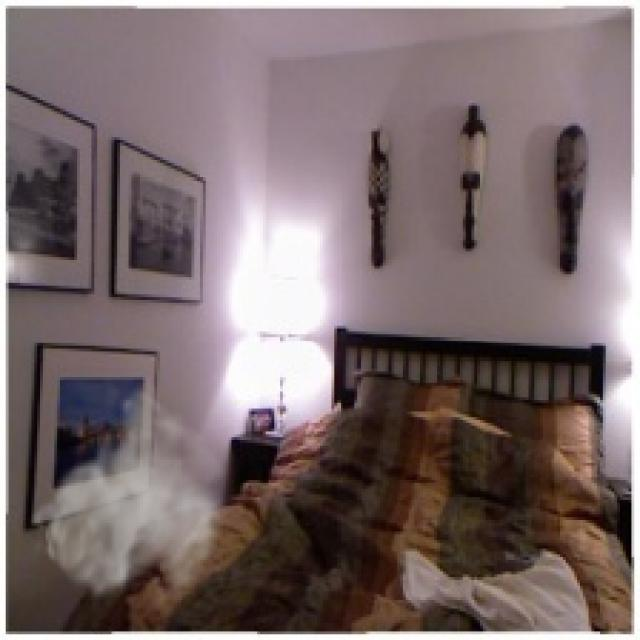smoke: (28, 371, 232, 620)
